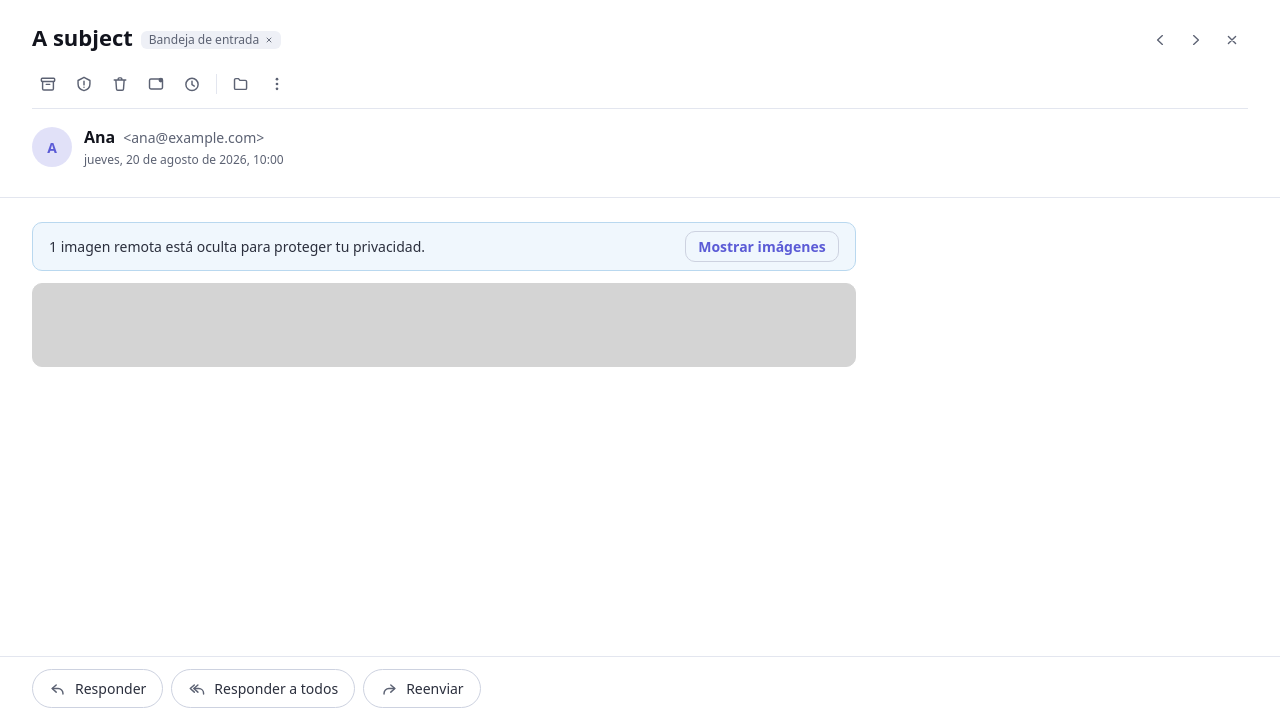
Test case: E4: snooze and mute in the reader › offers snooze and mute once the capability is wired
Expected: the button named "posponer hasta" is shown, [176,68,208,100]
Step 1. Click the button named "más acciones" → (277, 84), box [261,68,293,100]
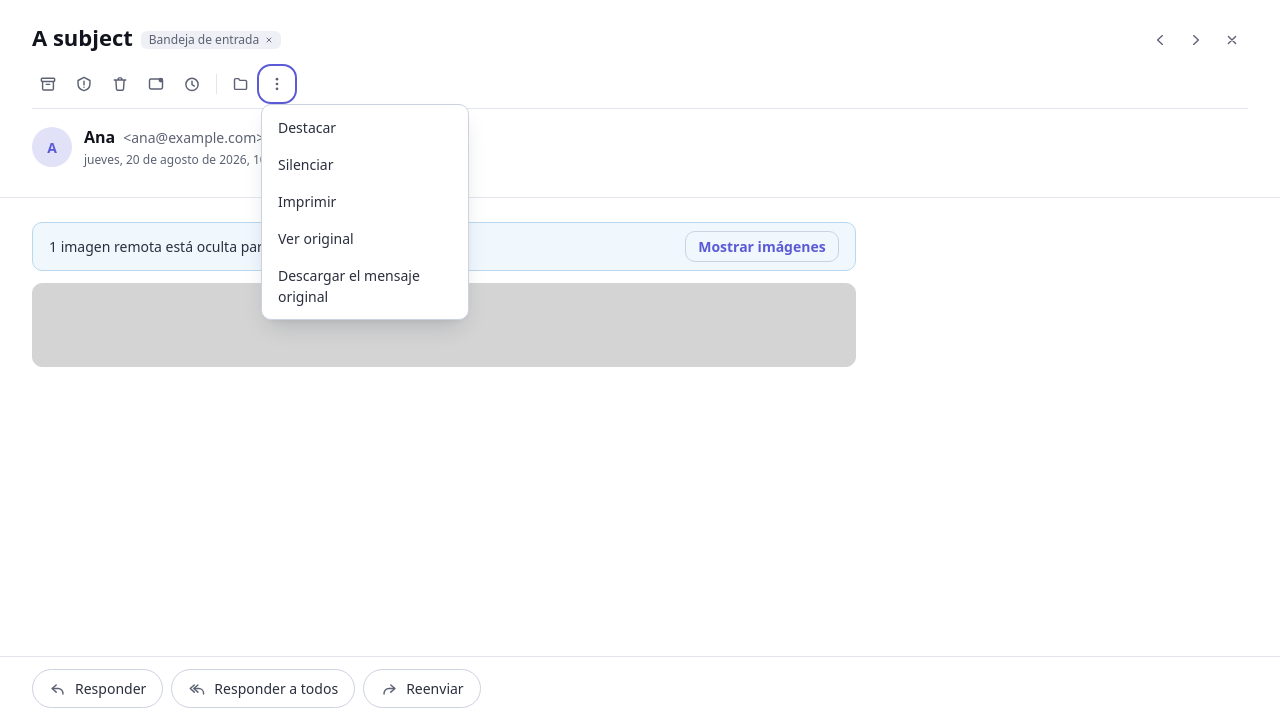
Now the menu item "Silenciar" is shown, box [266,146,464,183]
